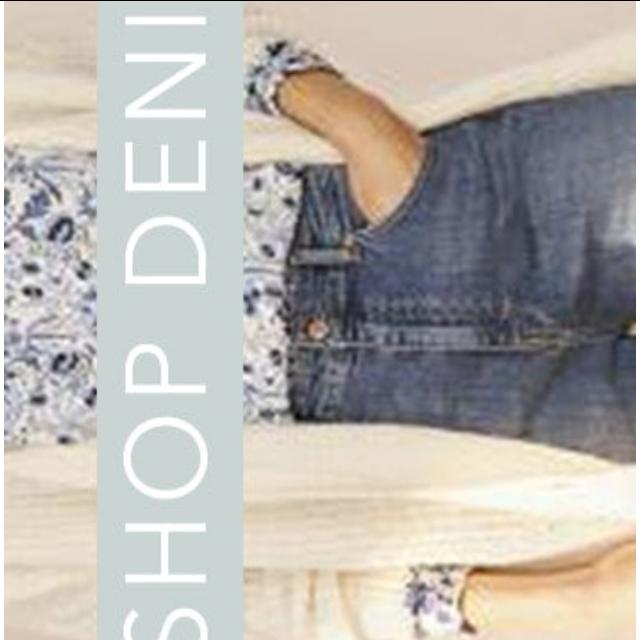denim: (285, 129, 637, 429)
